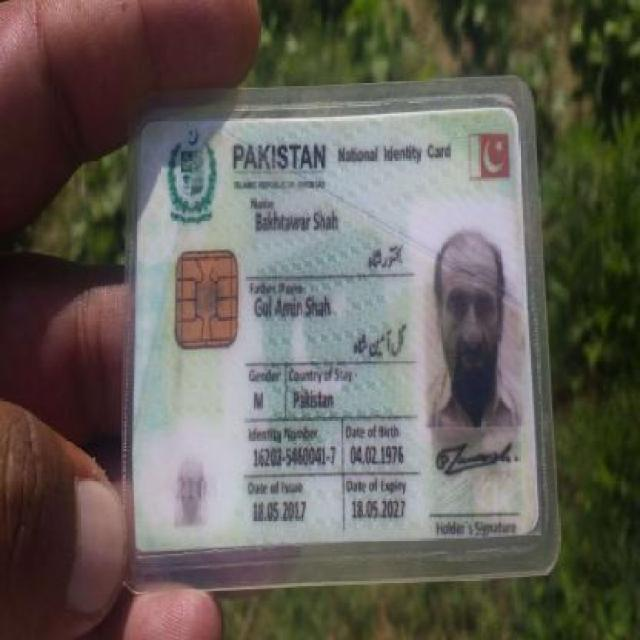Front: (129, 105, 546, 563)
